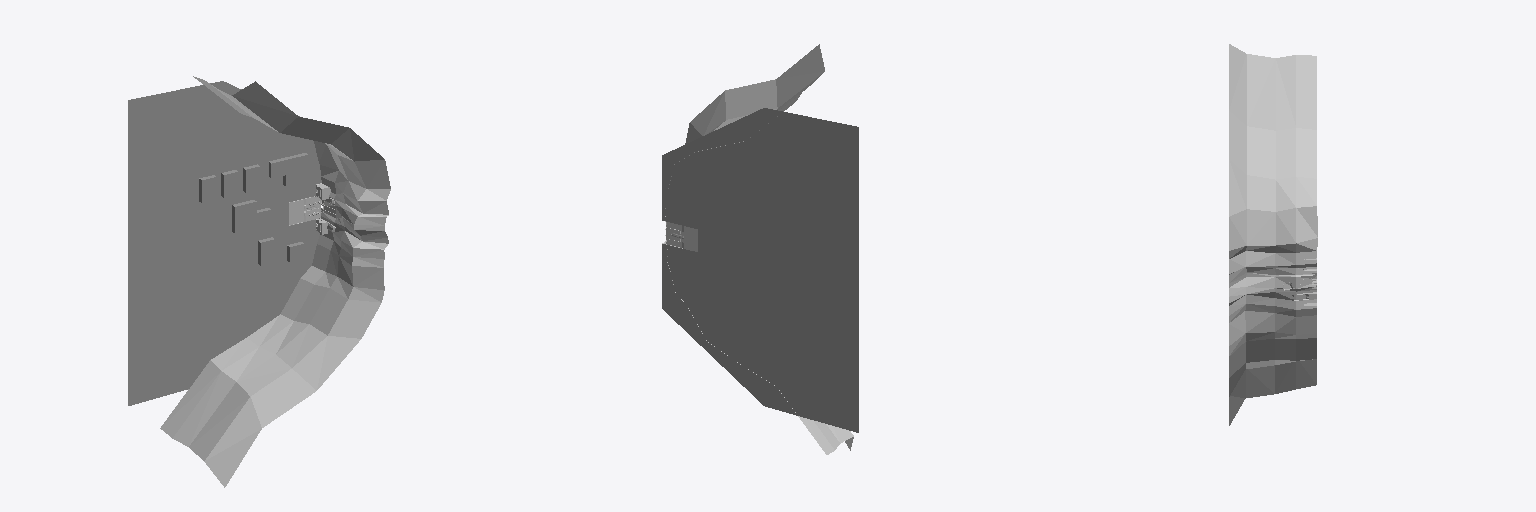
The model's file is mkp_001.obj.
3 views of the same model, side by side, from view 1: azimuth 30°, elevation 25°; view 2: azimuth 150°, elevation 25°; view 3: azimuth 270°, elevation 25° (orthographic).
Parts seen in each view (by area): view 1: g_g, g_bry_cliff, g_bry_concrete_floor_01; view 2: g_g, g_bry_cliff, g_bry_concrete_floor_01; view 3: g_bry_cliff.
Boxes of the visible parts, x1,y1,x2,y2 form: g_g: [128, 81, 321, 405]; g_bry_cliff: [160, 76, 390, 487]; g_bry_concrete_floor_01: [289, 196, 321, 224]; g_g: [662, 108, 858, 432]; g_bry_cliff: [665, 44, 853, 454]; g_bry_concrete_floor_01: [666, 222, 697, 251]; g_bry_cliff: [1229, 44, 1317, 425].
Size of the model in its own units: 60003 by 104278 by 24373.